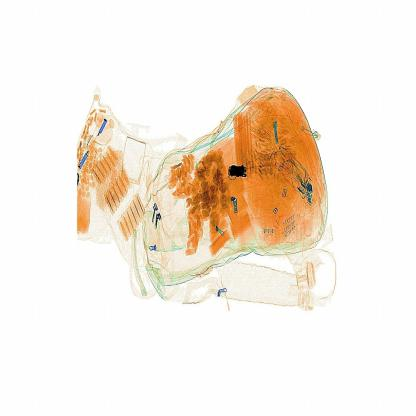scissors: (225, 160, 259, 185)
